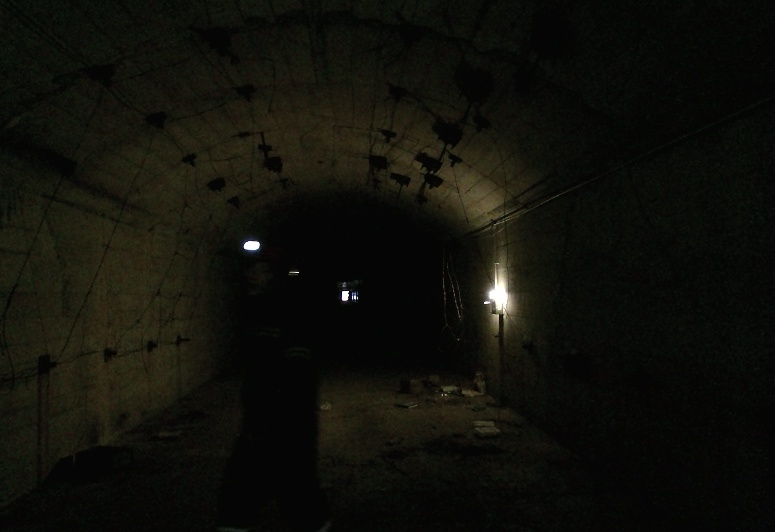person: (233, 242, 366, 532)
